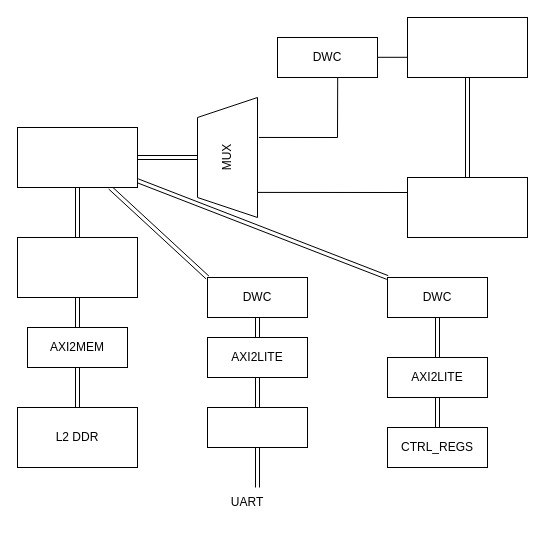
This 545x535 diagram has some shape labels left out. Each missing label, with the centre of its shape:
ARA2: (x=467, y=207)
ATOP-FILTER: (x=77, y=267)
CVA6: (x=467, y=47)
LITE2APB: (x=257, y=427)
XBAR: (x=77, y=157)
